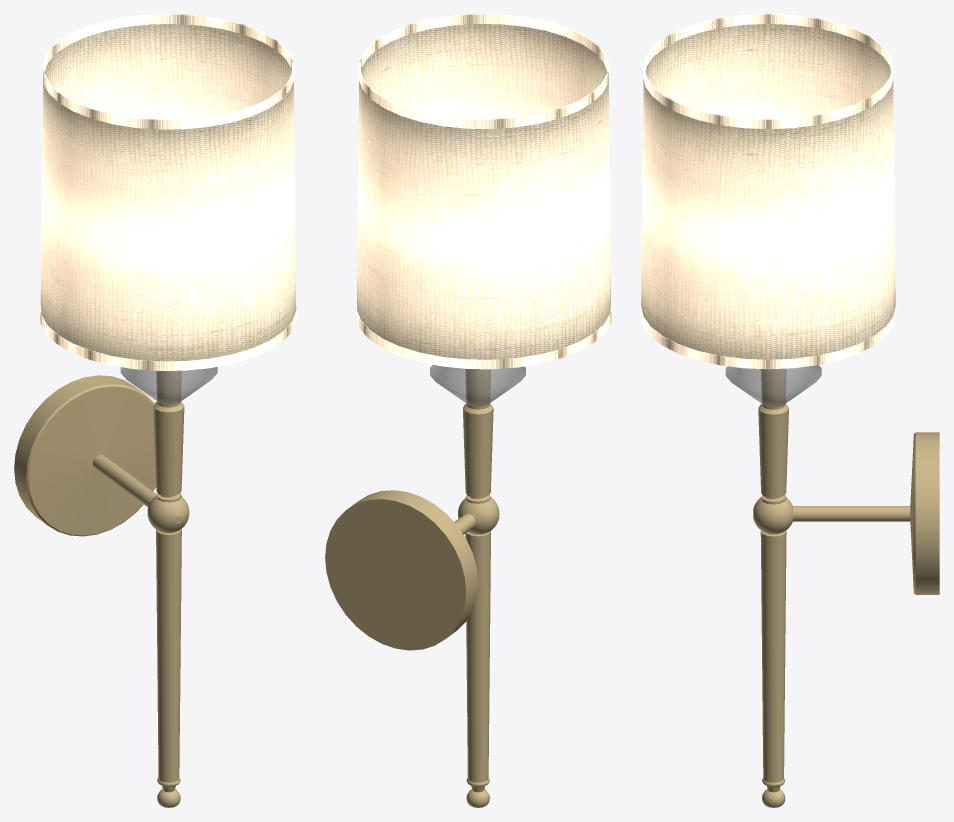
Rendered from CGT_Wall-Light_10_001.glb.
The picture shows the model from 3 angles, left to right: view 1: azimuth 30°, elevation 25°; view 2: azimuth 150°, elevation 25°; view 3: azimuth 270°, elevation 25°; orthographic projection.
Parts seen in each view (by area): view 1: CGT_Wall-Light_10_001; view 2: CGT_Wall-Light_10_001; view 3: CGT_Wall-Light_10_001.
Boxes of the visible parts, bbox=[...] form: CGT_Wall-Light_10_001: bbox=[14, 14, 296, 807]; CGT_Wall-Light_10_001: bbox=[325, 14, 611, 807]; CGT_Wall-Light_10_001: bbox=[640, 14, 939, 807].
Bounding box in the file's own units: 0.1831 × 0.5819 × 0.214.
4 materials, 1 textured.
